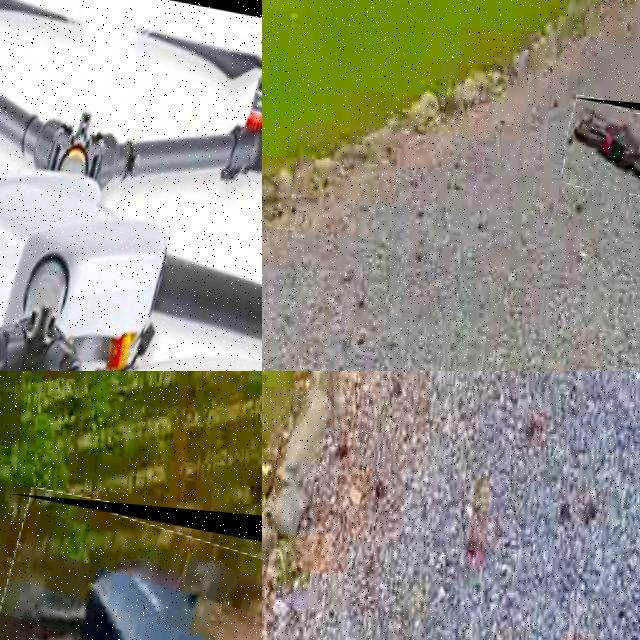0: (0, 493, 262, 640), (562, 96, 640, 196)
drone: (0, 0, 262, 371)
